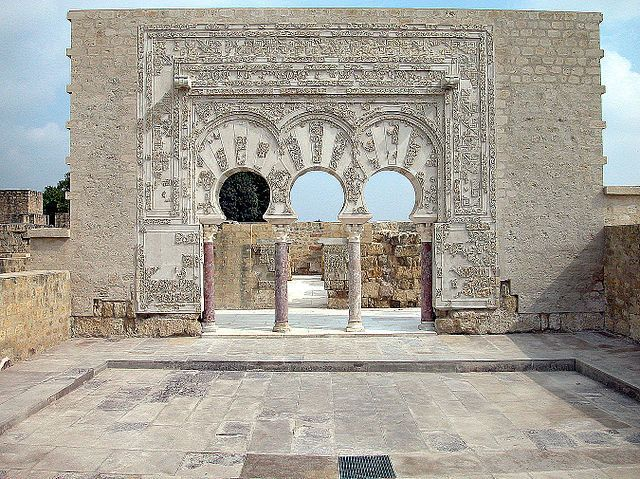arco-herradura: (207, 159, 282, 241), (354, 158, 427, 242), (280, 160, 355, 241)
